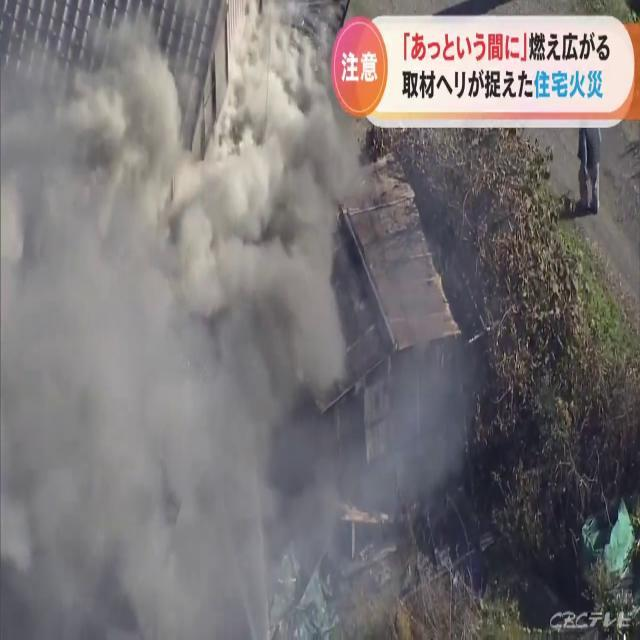Smoke: (1, 10, 468, 640)
